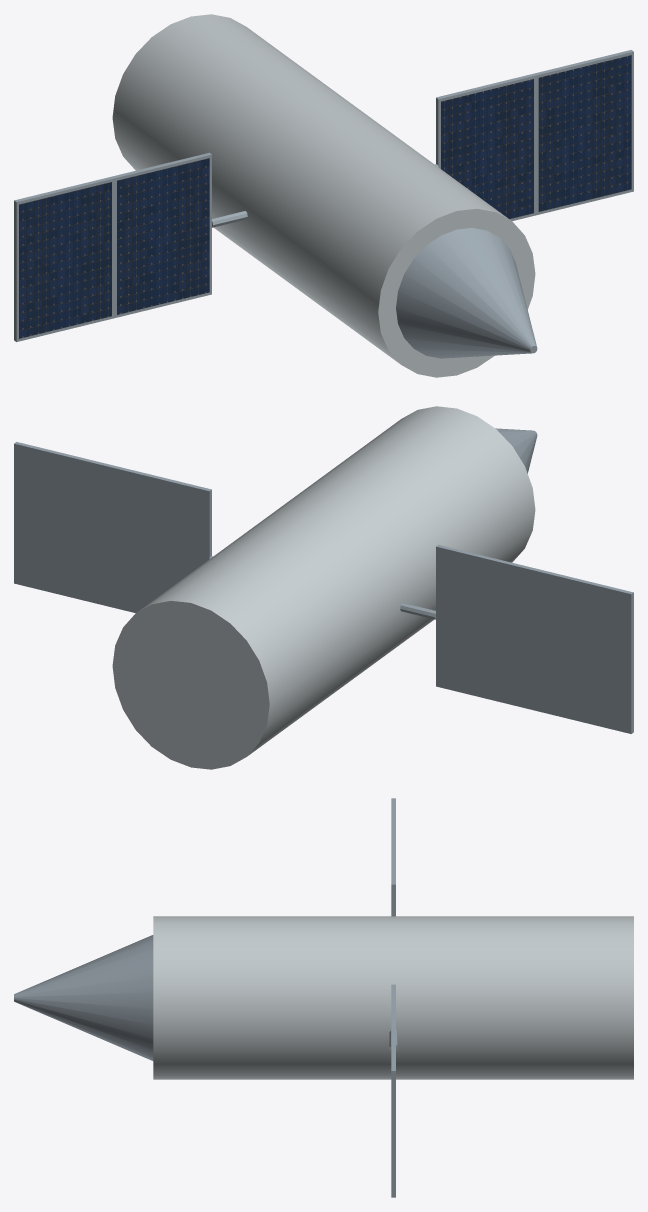
File: ref-7k-s-a48-41639.glb
3 views of the same model, one above another, from view 1: azimuth 30°, elevation 25°; view 2: azimuth 150°, elevation 25°; view 3: azimuth 270°, elevation 25° (orthographic). The views are drawn at different scales.
Parts seen in each view (by area): view 1: Spacecraft body, Photovoltaic laminates (×4), Conical section, Array frame (×4); view 2: Spacecraft body, Array frame (×4), Conical section; view 3: Spacecraft body, Conical section, Array frame.
Part boxes in pixels (x1,y1,x2,y2): Spacecraft body: [112, 14, 535, 377]; Photovoltaic laminates (×4): [19, 55, 631, 338]; Conical section: [396, 228, 537, 358]; Array frame (×4): [14, 50, 633, 341]; Spacecraft body: [112, 406, 535, 769]; Array frame (×4): [14, 442, 633, 733]; Conical section: [495, 428, 537, 473]; Spacecraft body: [153, 916, 633, 1079]; Conical section: [14, 935, 153, 1060]; Array frame: [391, 1028, 395, 1197].
Bounding box in the file's own units: 10.6 × 2.7 × 10.19.
Materials: 3 (1 with a texture image).
